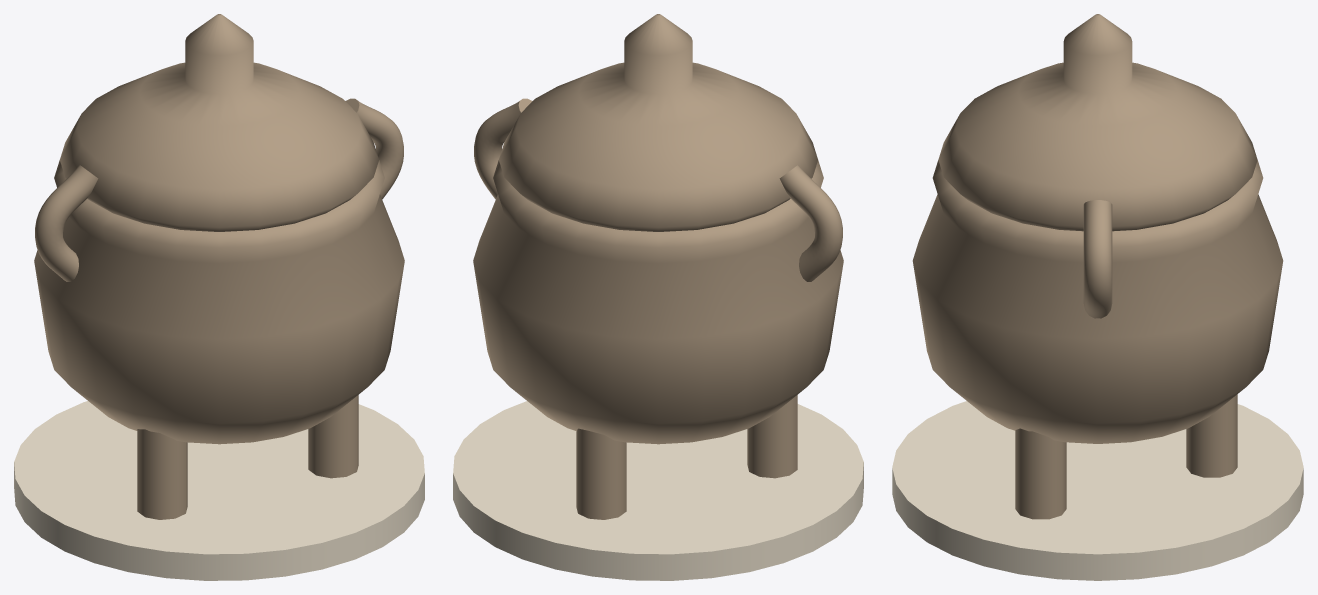
Rendered from sg_incense.glb.
3 renders of one model, left to right at view 1: azimuth 30°, elevation 25°; view 2: azimuth 150°, elevation 25°; view 3: azimuth 270°, elevation 25°, orthographic.
Visible parts, largest first — view 1: burner_body, disc, burner_lid, burner_foot1, burner_ear0, burner_foot2, burner_ear1; view 2: burner_body, disc, burner_lid, burner_foot0, burner_ear0, burner_foot1, burner_ear1; view 3: burner_body, disc, burner_lid, burner_foot2, burner_ear1, burner_foot0.
Part boxes in pixels (<box>): burner_body: <box>34,160,404,444</box>; disc: <box>14,401,424,580</box>; burner_lid: <box>60,14,378,231</box>; burner_foot1: <box>137,429,187,519</box>; burner_ear0: <box>35,165,98,281</box>; burner_foot2: <box>308,395,358,478</box>; burner_ear1: <box>345,98,403,199</box>; burner_body: <box>473,160,843,444</box>; disc: <box>453,401,863,580</box>; burner_lid: <box>499,14,817,231</box>; burner_foot0: <box>576,428,626,519</box>; burner_ear0: <box>779,165,842,281</box>; burner_foot1: <box>747,395,797,478</box>; burner_ear1: <box>474,98,532,199</box>; burner_body: <box>912,160,1283,443</box>; disc: <box>892,401,1303,580</box>; burner_lid: <box>938,14,1257,231</box>; burner_foot2: <box>1015,428,1066,519</box>; burner_ear1: <box>1083,200,1112,318</box>; burner_foot0: <box>1186,394,1237,477</box>.
Bounding box in the file's own units: 0.1434 × 0.1798 × 0.14.
